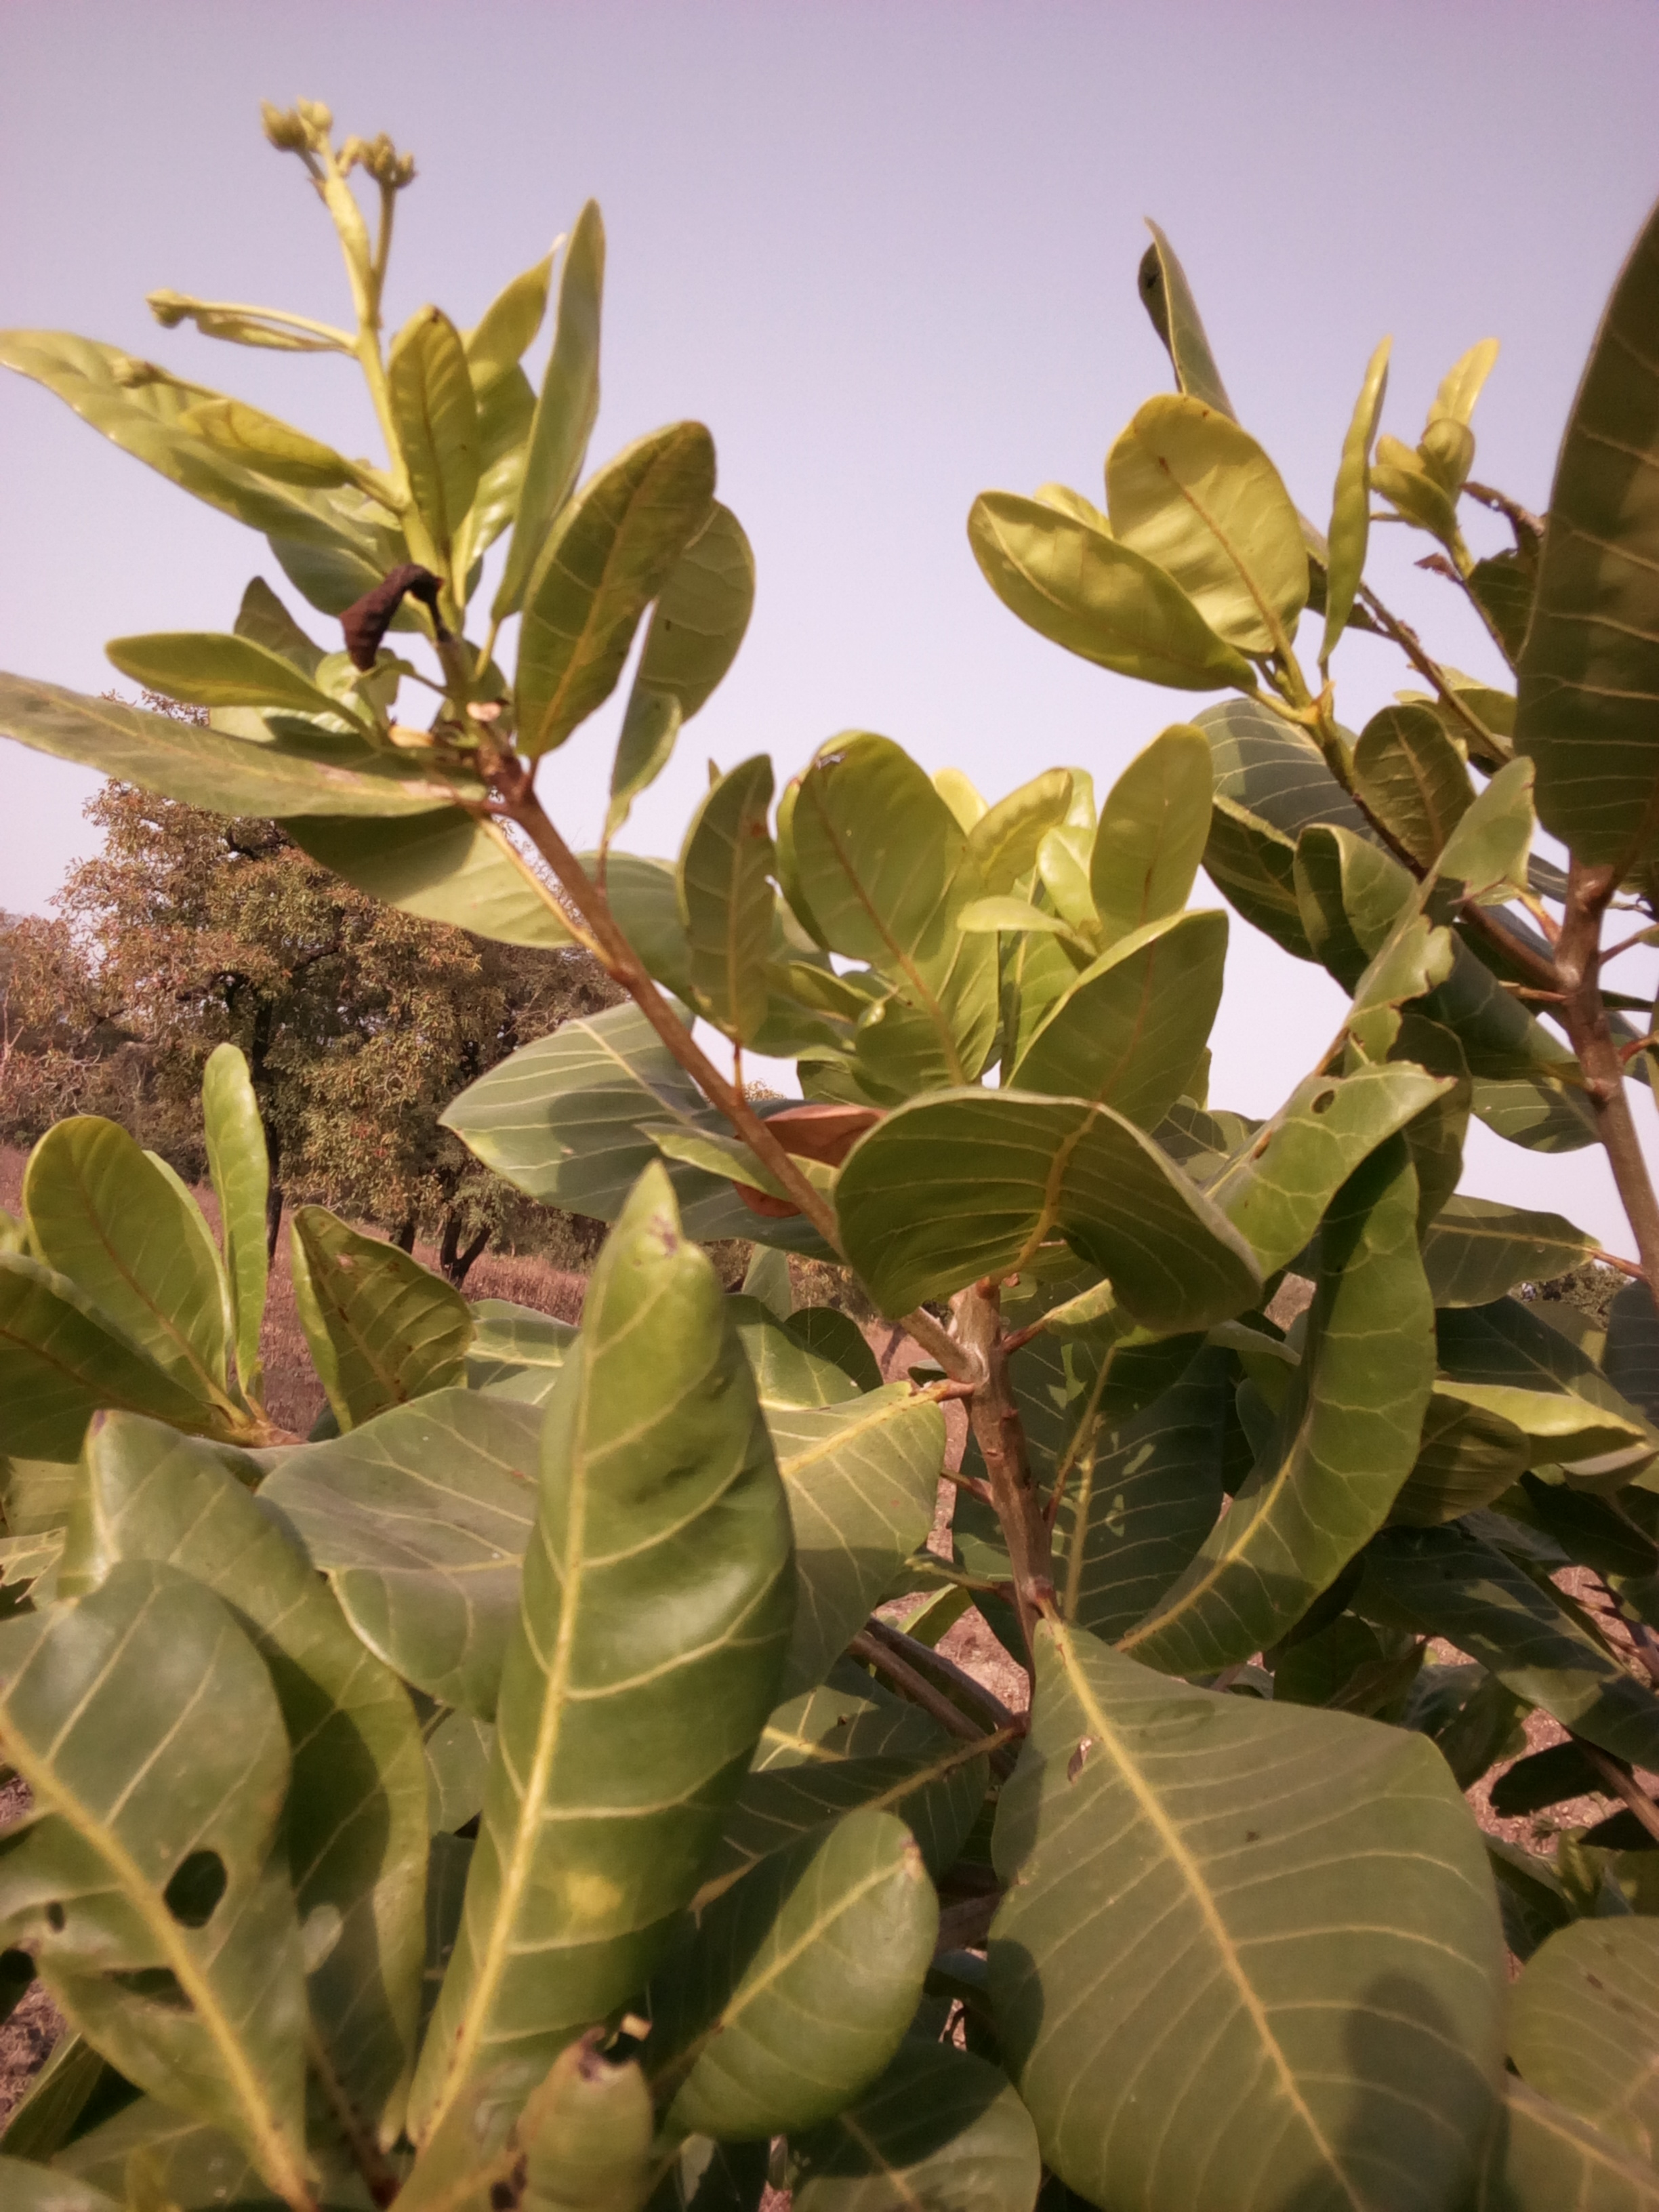Anoplonemis curvipes: (9, 1604, 305, 2130), (1277, 770, 1547, 1177)
